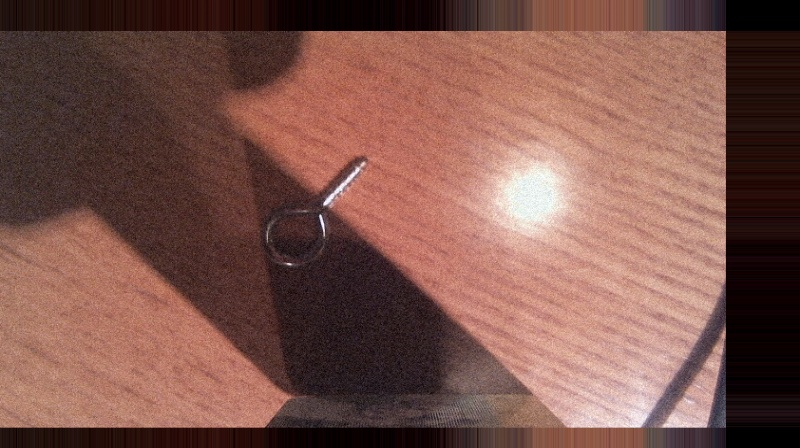O001: (260, 153, 371, 269)
